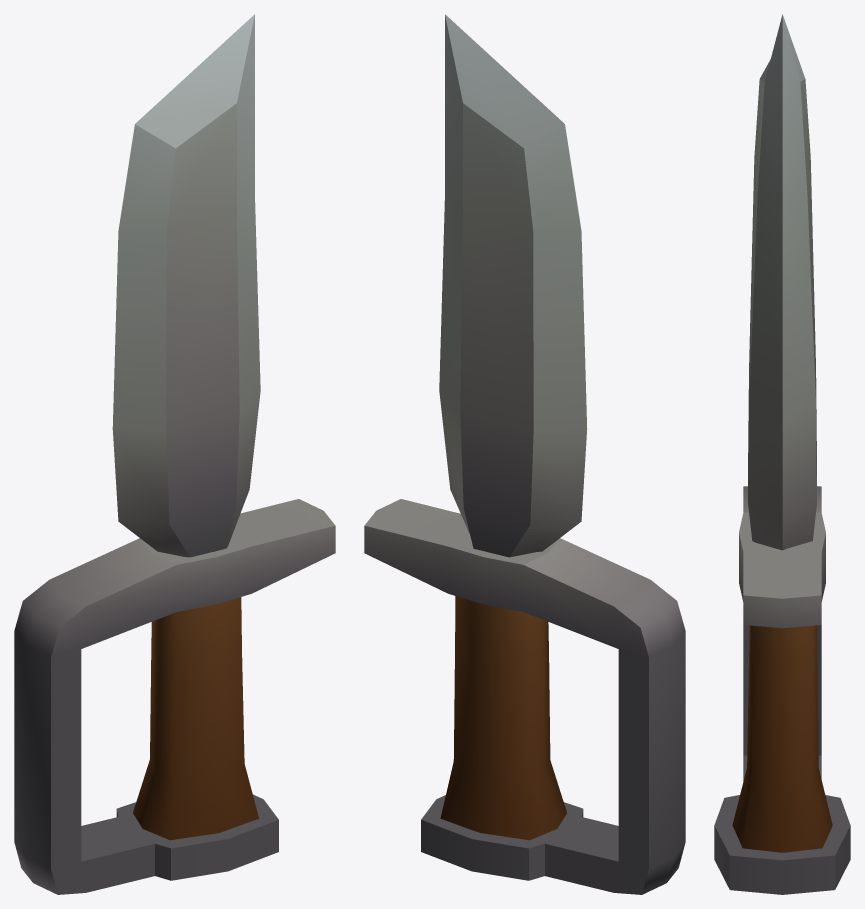
Rendered from Dagger_04.glb.
The picture shows the model from 3 angles, left to right: view 1: azimuth 30°, elevation 25°; view 2: azimuth 150°, elevation 25°; view 3: azimuth 270°, elevation 25°; orthographic projection. The views are drawn at different scales.
Visible parts, largest first — view 1: Dagger_04; view 2: Dagger_04; view 3: Dagger_04.
Boxes of the visible parts, x1=… form: Dagger_04: x1=14, y1=14, x2=335, y2=894; Dagger_04: x1=364, y1=14, x2=685, y2=894; Dagger_04: x1=714, y1=14, x2=850, y2=894.
Bounding box in the file's own units: 0.3197 × 0.8421 × 0.1186.
Materials: 1 (1 with a texture image).
